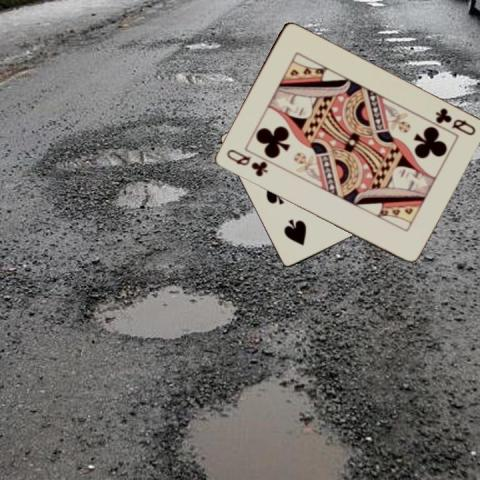Qc: (222, 146, 269, 179), (432, 105, 477, 137)
